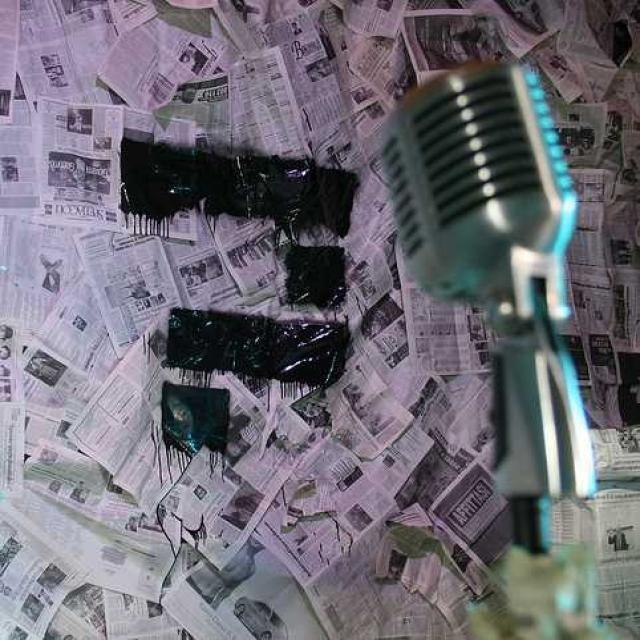microphone: (371, 61, 594, 360)
